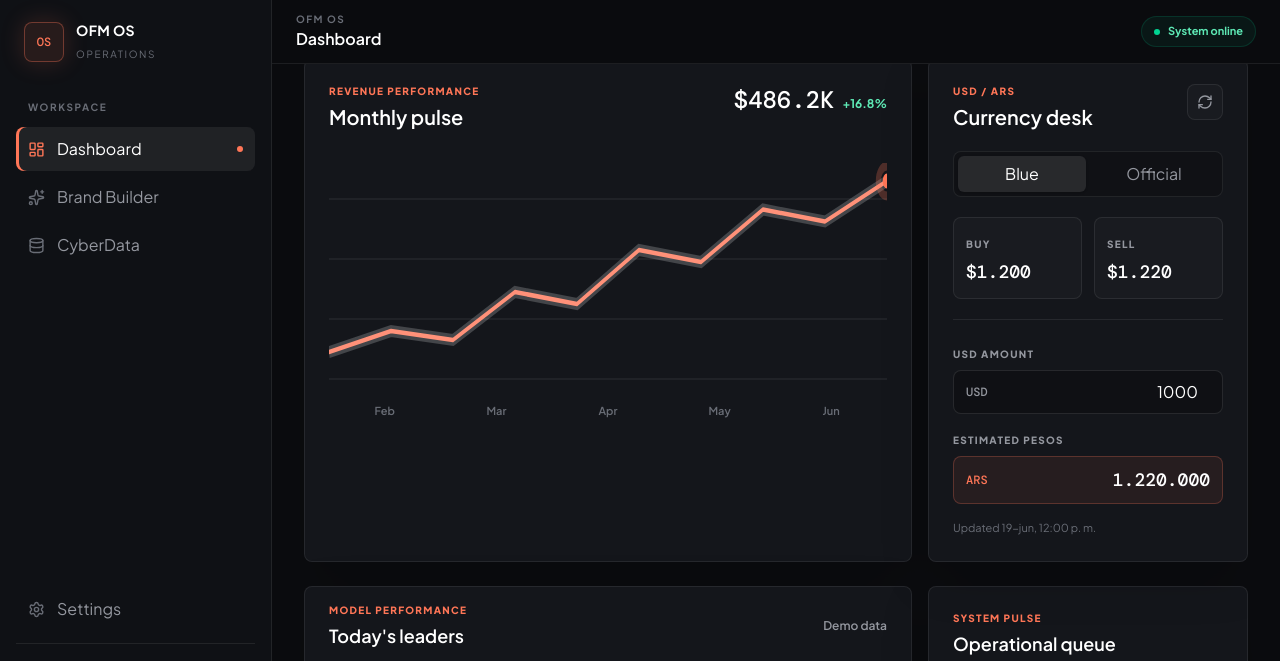
Scenario: BrandBuilderApp › converts USD to ARS with the selected live quote
The width and height of the screenshot is (1280, 661).
(page scrolled)
Expected: the text "1.220.000" is shown, [1113,466,1210,494]
Replace the text in the field labelled "USD amount" with "2" at (1099, 392), box [988,380,1210,404]
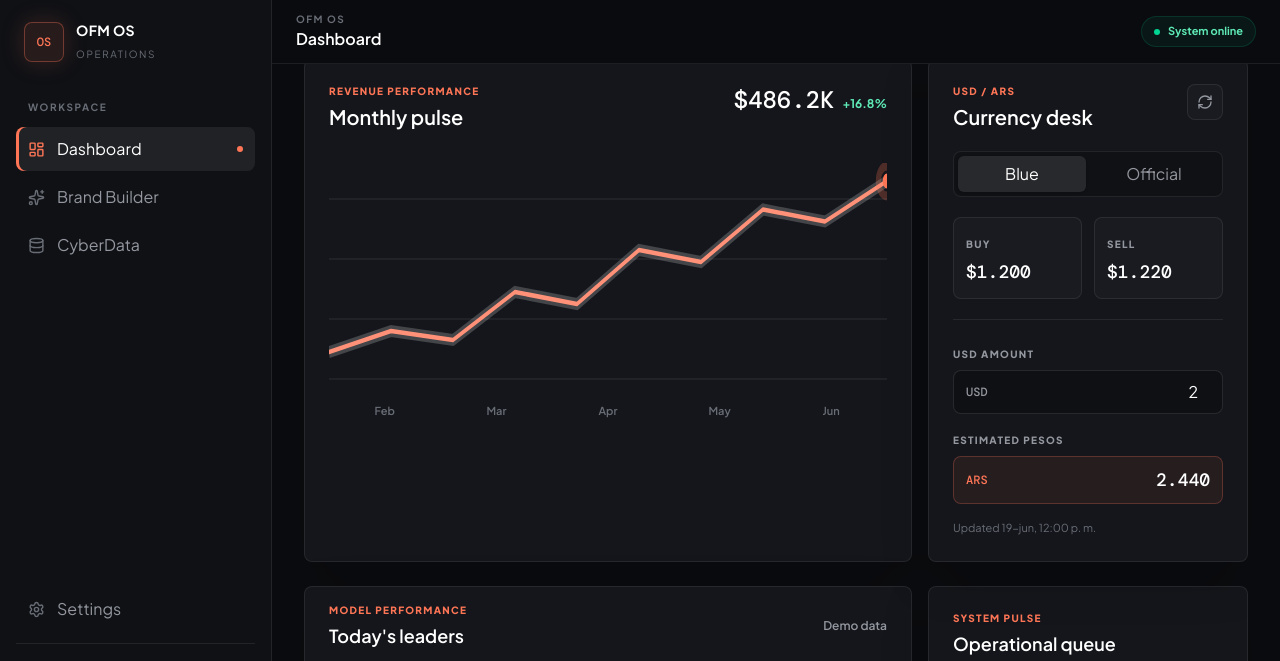
Now the text "2.440" is shown, box [1156,466,1210,494]
Click the button "official" at (1154, 174), box [1090,156,1218,192]
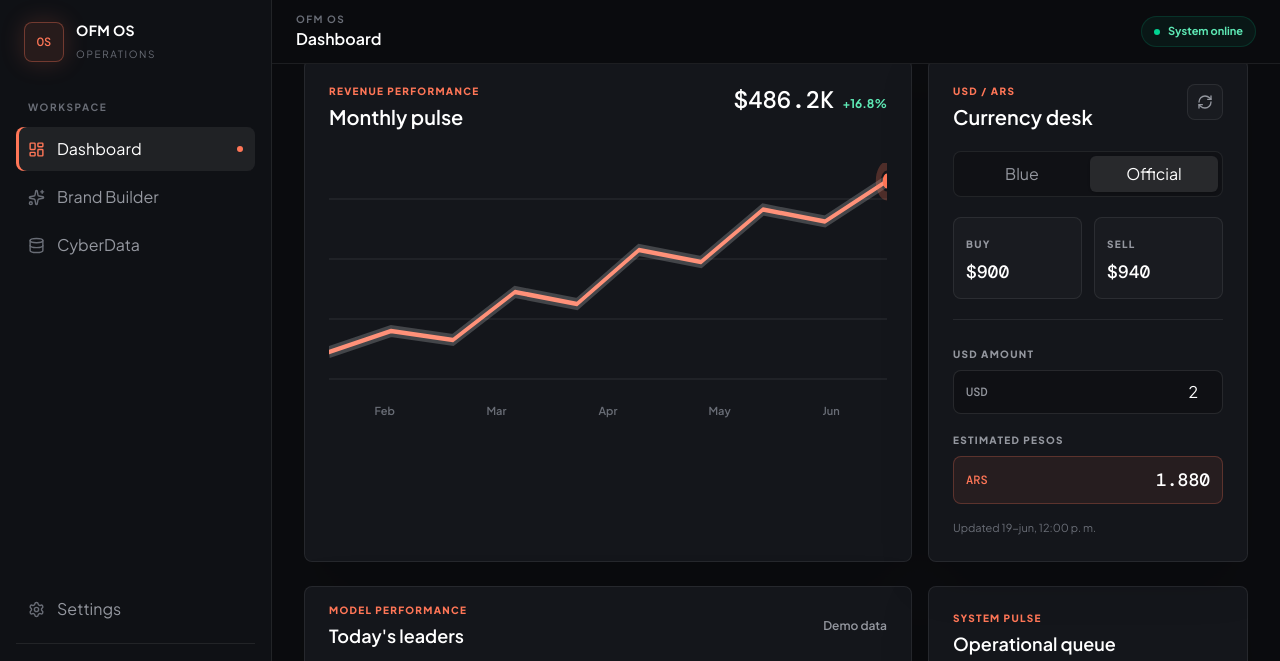
Now the text "1.880" is shown, box [1156,466,1210,494]
